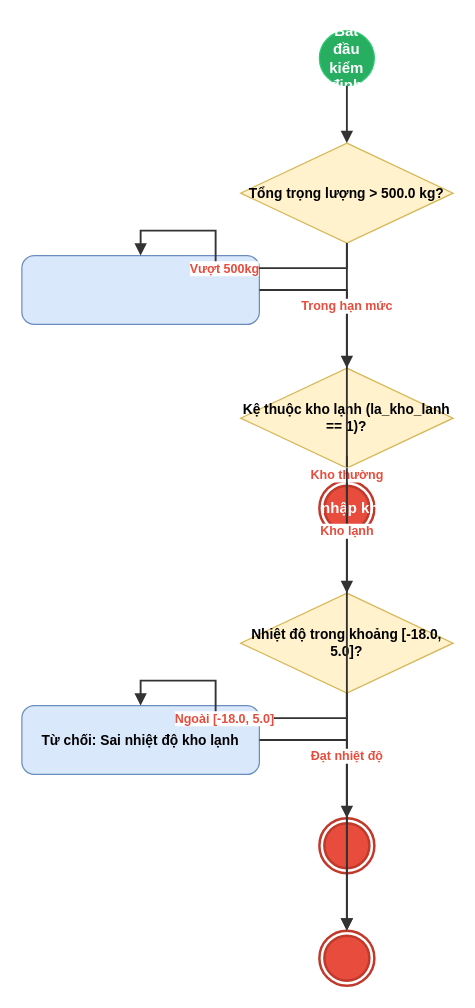
The diagram is 475 pixels wide and 1008 high, and some of its shapes have lost their labels. The shapes that lost their labels are listed below. From the top down, each one's box as (x1, y1, x2, y2) in pixels, then its label:
(21, 254, 259, 324): Từ chối: Vi phạm tải trọng kệ
(318, 816, 375, 874): Cho phép nhập kho lạnh
(318, 929, 375, 986): Kết thúc: Từ chối nhập kho
